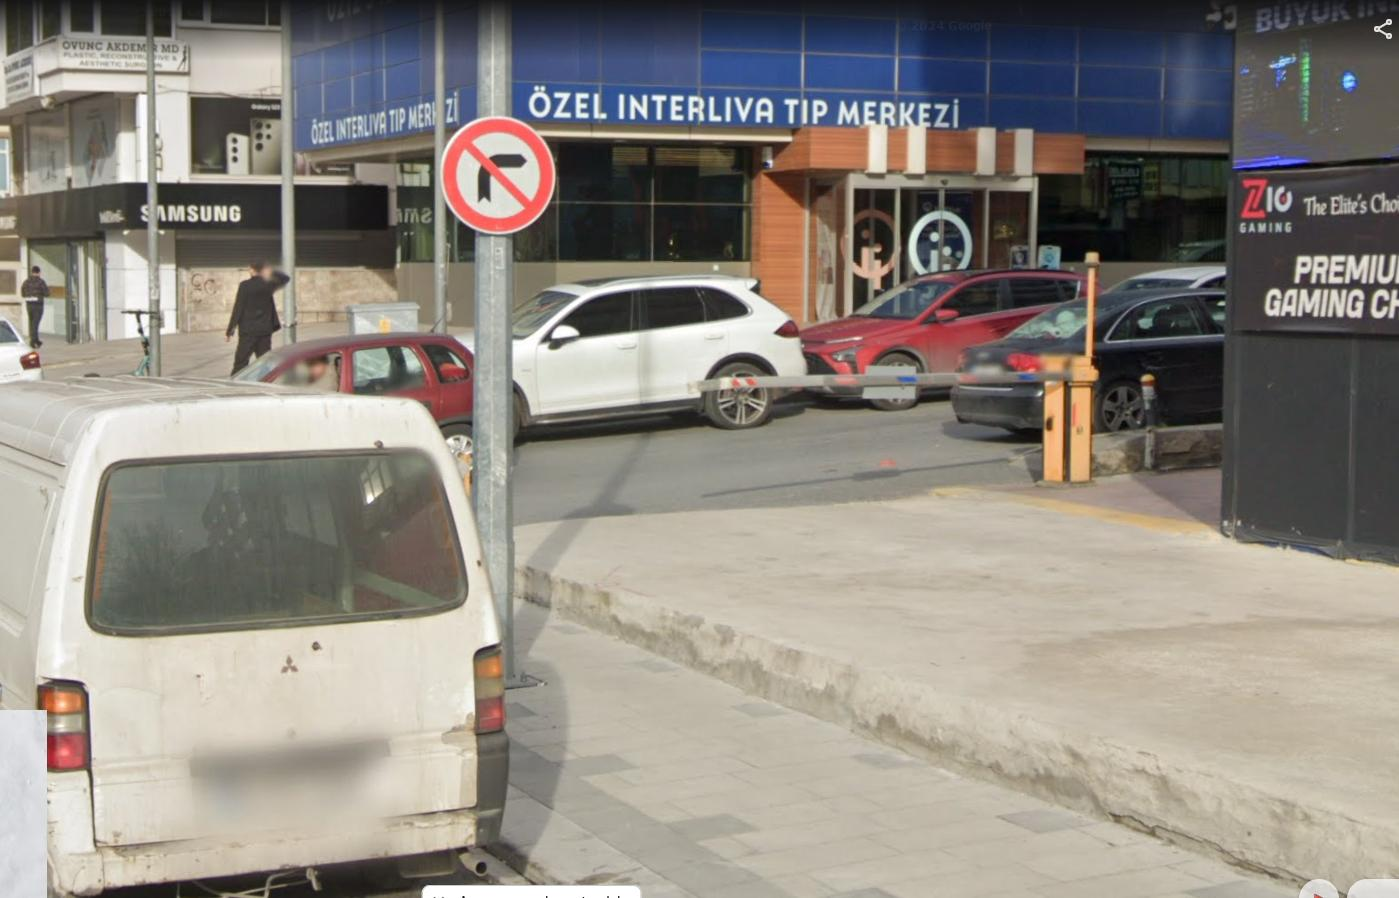rightturnsareforbidden: (447, 122, 554, 228)
